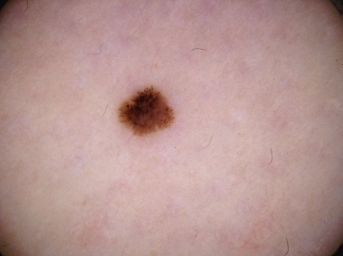nevus: (119, 88, 176, 137)
